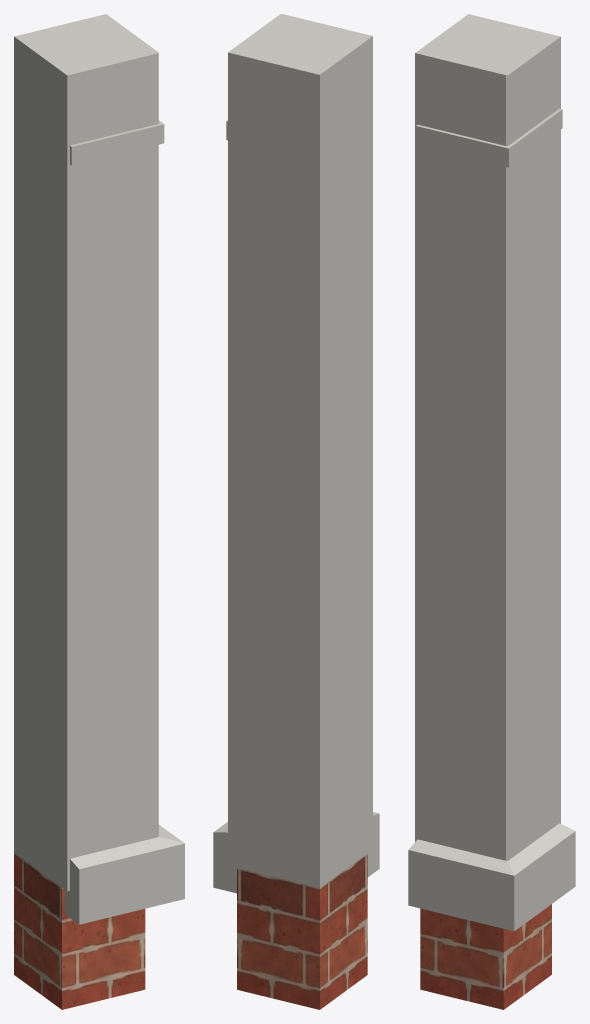
The model's file is corner_siding.glb.
3 renders of one model, left to right at view 1: azimuth 30°, elevation 25°; view 2: azimuth 150°, elevation 25°; view 3: azimuth 330°, elevation 25°, orthographic.
Visible parts, largest first — view 1: corner_siding_trim, corner_siding_brick; view 2: corner_siding_trim, corner_siding_brick; view 3: corner_siding_trim, corner_siding_brick.
Part boxes in pixels (x1,y1,x2,y2): corner_siding_trim: (14,14,184,924); corner_siding_brick: (14,852,145,1009); corner_siding_trim: (213,14,379,893); corner_siding_brick: (237,853,367,1009); corner_siding_trim: (408,14,575,931); corner_siding_brick: (420,904,551,1009).
Size of the model in its own units: 0.417 by 3.45 by 0.417.
Materials: 2 (1 with a texture image).
